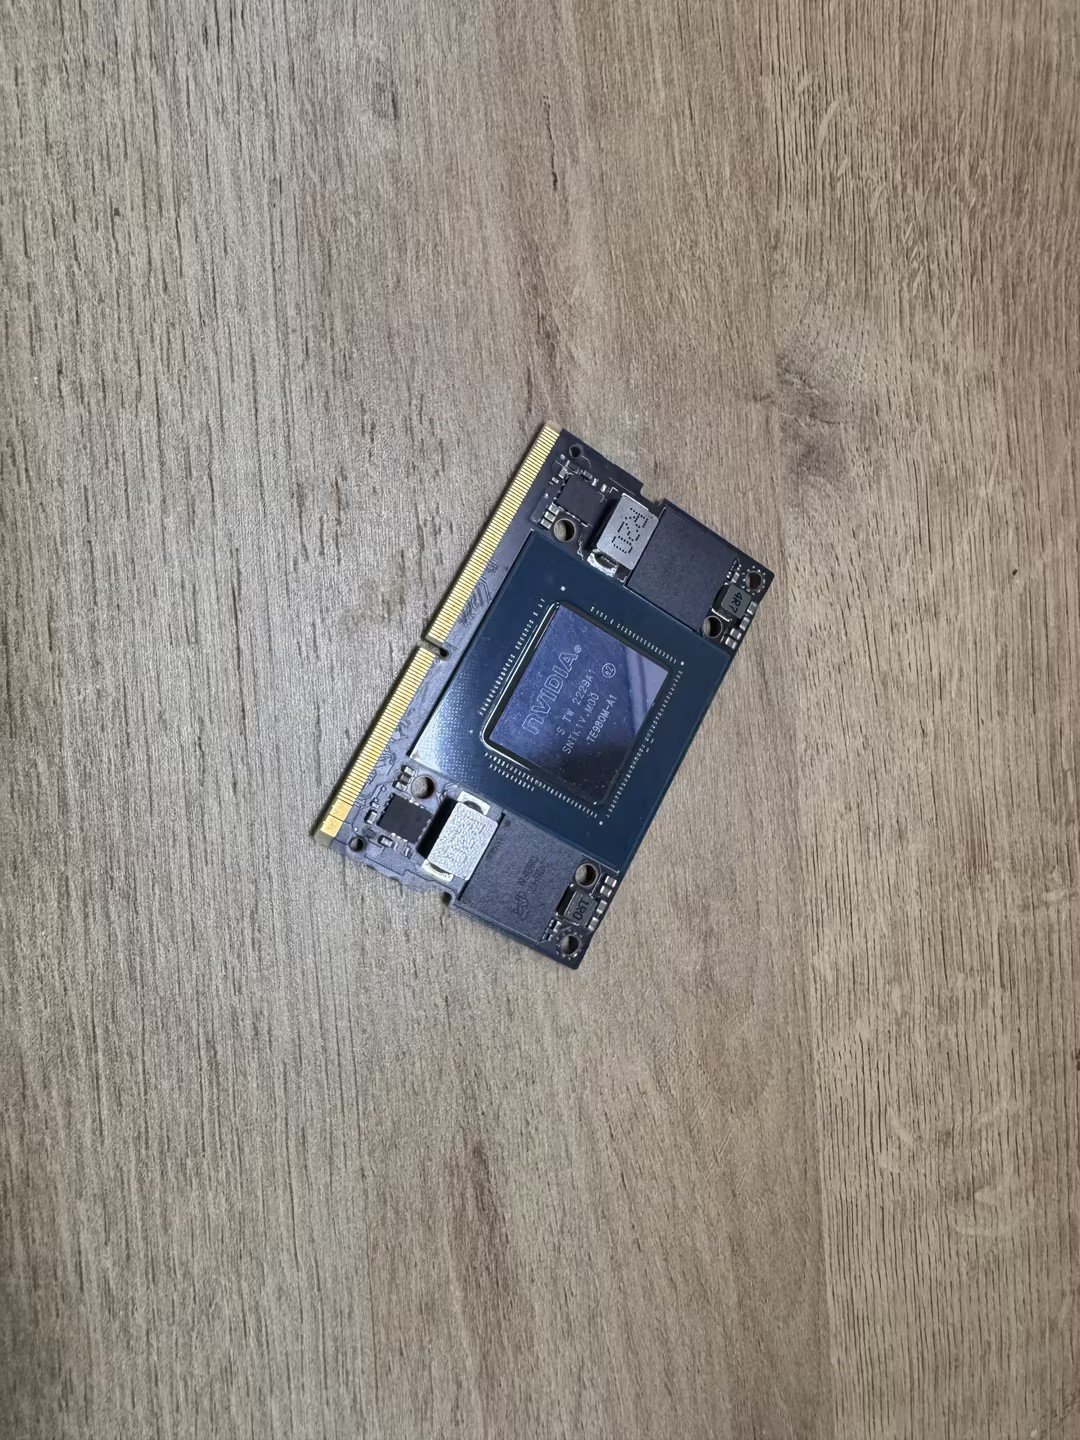Jetson Module: (295, 409, 786, 981)
